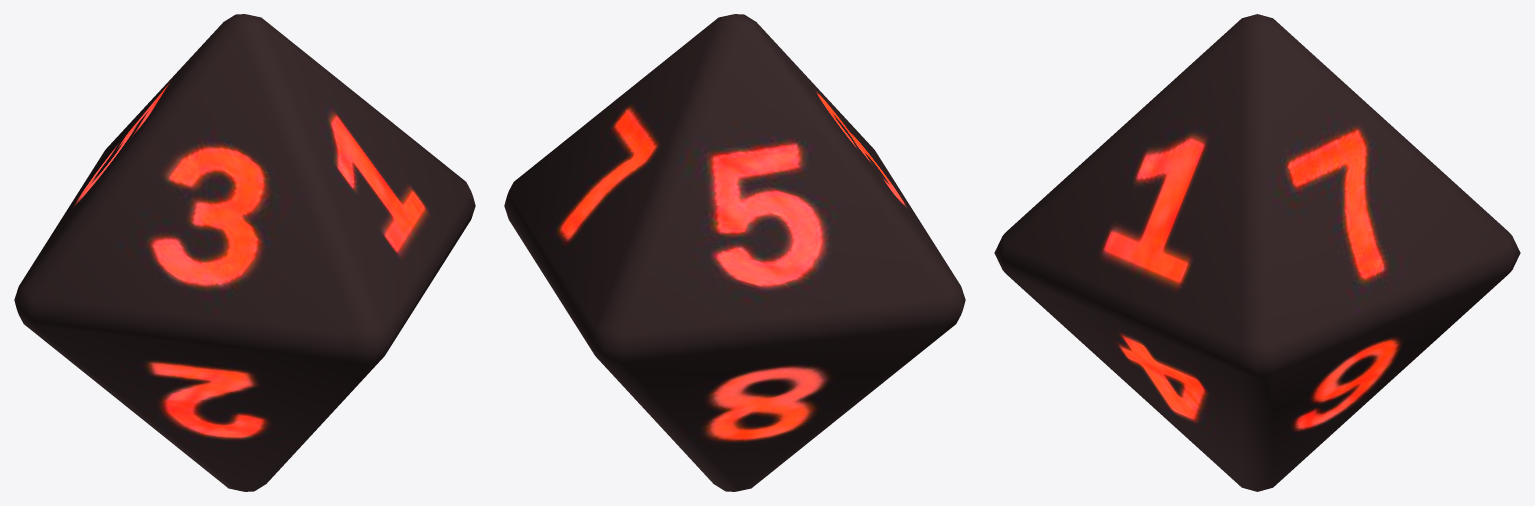
3 views of the same model, side by side, from view 1: azimuth 30°, elevation 25°; view 2: azimuth 150°, elevation 25°; view 3: azimuth 270°, elevation 25° (orthographic).
Parts seen in each view (by area): view 1: 8Yellow; view 2: 8Yellow; view 3: 8Yellow.
Part boxes in pixels (<box>): 8Yellow: <box>14,14,475,491</box>; 8Yellow: <box>504,14,965,491</box>; 8Yellow: <box>994,14,1520,491</box>.
Size of the model in its own units: 1.62 by 1.62 by 1.62.
1 material, 1 textured.
